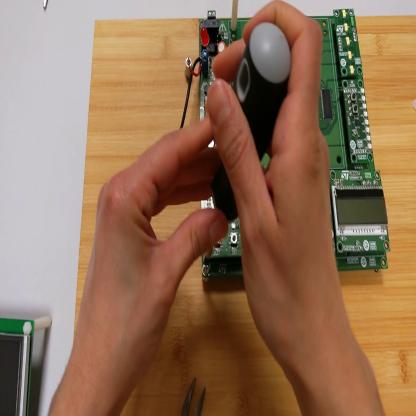hand: (206, 2, 354, 380), (64, 86, 231, 412)
low voltage board: (181, 11, 392, 280)
screwdriver-: (205, 19, 293, 265)
working area: (71, 15, 416, 415)
